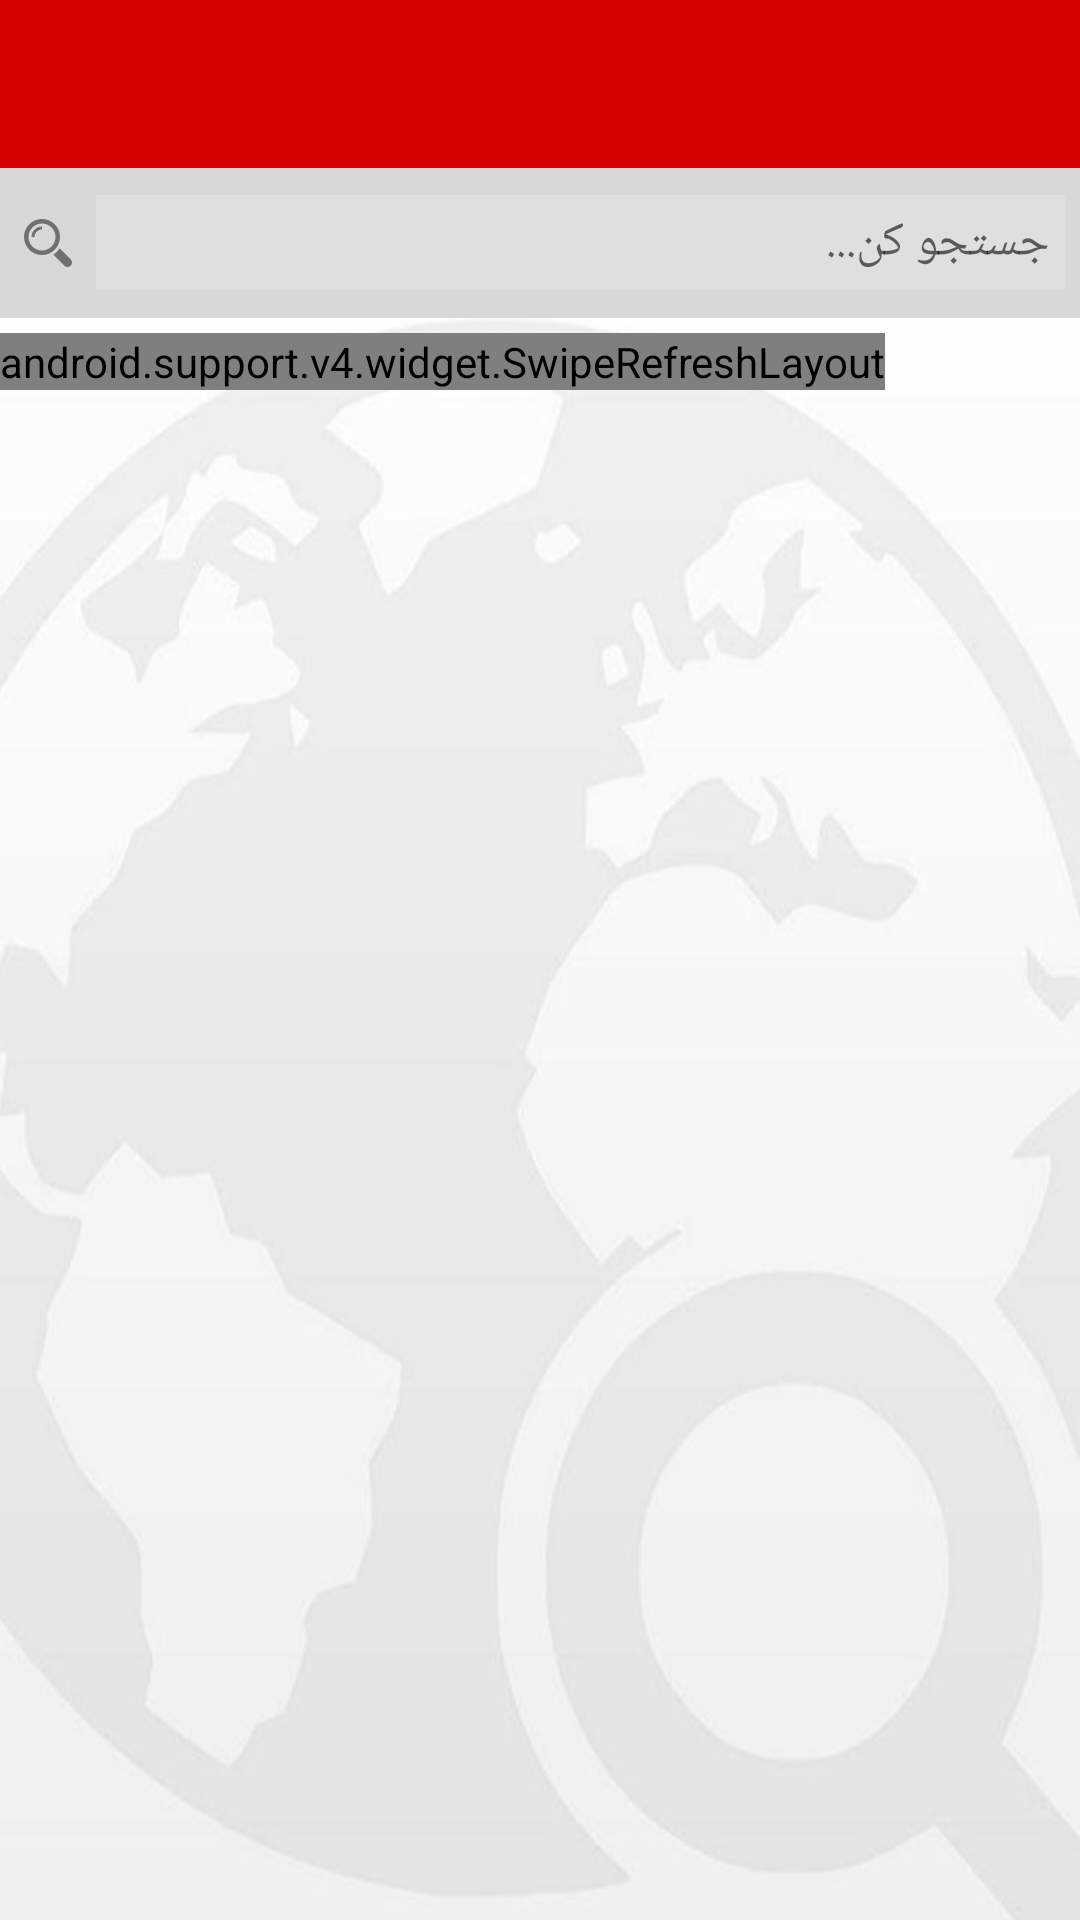

Where to tap for icons on this 1080w x 1920h app screen, as point (x, y):
searcht: point (48, 243)
